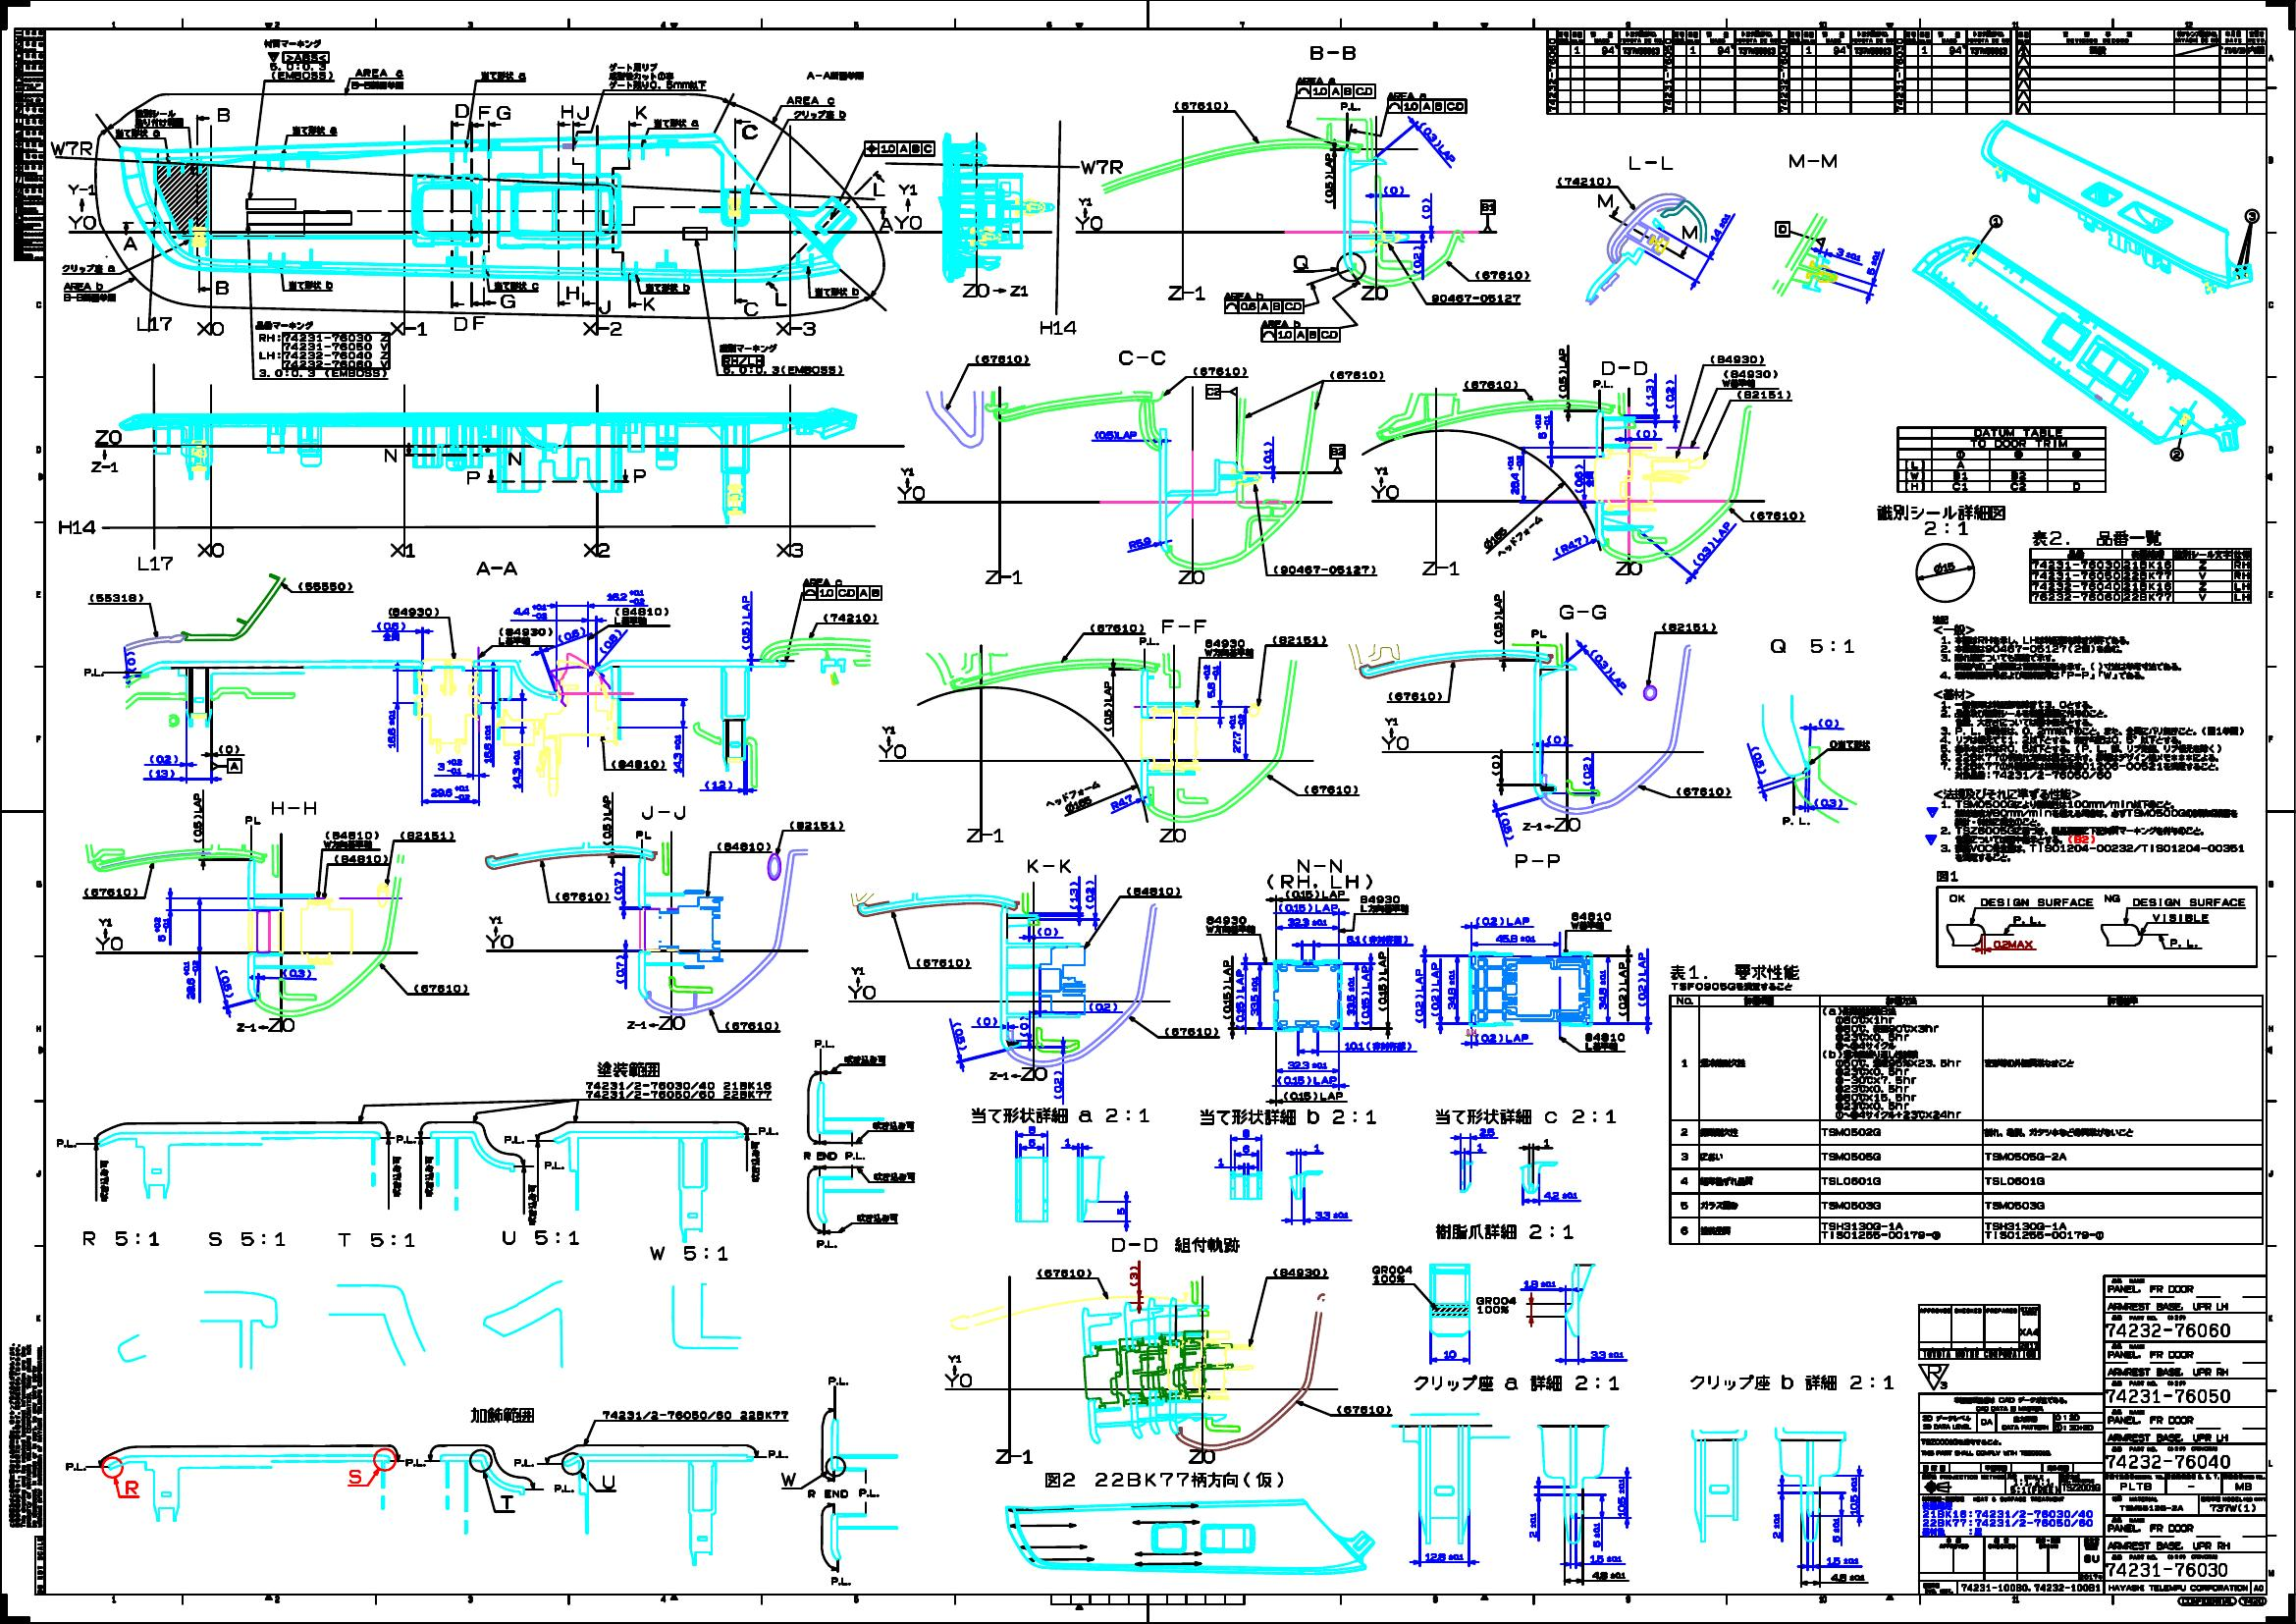anntotation_text: (1925, 613, 2245, 863), (255, 320, 390, 378), (585, 1060, 771, 1098), (1874, 501, 2006, 536), (718, 343, 841, 374), (1043, 1471, 1284, 1487), (1915, 541, 1976, 603), (1412, 1374, 1621, 1392), (1669, 963, 1799, 991), (1267, 858, 1372, 889), (1690, 1373, 1894, 1388), (1433, 1107, 1616, 1125), (970, 1107, 1151, 1123), (264, 39, 334, 79), (1198, 1109, 1375, 1125), (608, 62, 706, 88), (2032, 529, 2162, 547), (1112, 1236, 1240, 1253), (1435, 1223, 1574, 1239), (1296, 76, 1375, 98), (803, 576, 882, 599), (1261, 320, 1340, 341), (1224, 292, 1303, 313), (603, 1410, 789, 1418), (1388, 91, 1465, 112), (892, 183, 922, 228), (69, 183, 97, 230), (648, 1244, 729, 1260), (502, 1229, 580, 1244), (83, 1230, 160, 1246), (1769, 638, 1855, 652), (63, 281, 116, 302), (207, 1232, 286, 1246), (337, 1232, 415, 1246), (469, 1406, 534, 1422), (1722, 369, 1780, 387), (321, 830, 379, 847), (2133, 898, 2247, 907), (1980, 898, 2094, 907), (497, 626, 553, 643), (613, 606, 669, 624), (864, 141, 933, 155), (1075, 197, 1103, 230), (963, 283, 1029, 297), (1370, 466, 1398, 499), (1917, 1362, 1950, 1390), (943, 1353, 971, 1387), (95, 917, 123, 951), (878, 726, 906, 759), (1381, 717, 1409, 750), (847, 967, 875, 1000), (485, 916, 513, 949), (135, 107, 183, 127), (1274, 564, 1375, 573), (1203, 638, 1254, 656), (1205, 916, 1256, 933), (896, 468, 924, 499), (1360, 895, 1409, 912), (235, 1018, 295, 1032), (1521, 817, 1581, 831), (1583, 1032, 1625, 1051), (989, 1067, 1047, 1081), (627, 1016, 685, 1030), (1432, 294, 1521, 302), (806, 1487, 880, 1497), (1117, 350, 1165, 366), (1600, 360, 1648, 376), (1788, 153, 1836, 169), (1558, 605, 1606, 620), (271, 800, 316, 816), (1514, 852, 1560, 868), (1026, 858, 1072, 874), (775, 320, 815, 337), (1372, 1265, 1412, 1283), (1476, 1295, 1516, 1313), (1570, 910, 1611, 928), (1628, 155, 1672, 170), (1309, 46, 1356, 60), (1161, 619, 1207, 633), (476, 559, 516, 575), (49, 141, 93, 155), (641, 805, 685, 819), (1166, 285, 1205, 301), (984, 568, 1022, 584), (994, 1448, 1033, 1464), (1080, 160, 1123, 174), (390, 322, 427, 337), (1423, 561, 1460, 576), (789, 819, 843, 830), (1676, 786, 1730, 796), (137, 555, 172, 571), (1040, 320, 1075, 336), (1750, 510, 1802, 520), (1476, 1032, 1528, 1042), (803, 1151, 864, 1160), (58, 520, 95, 534), (966, 828, 1003, 842), (806, 70, 864, 79), (1474, 271, 1530, 279), (2152, 914, 2208, 923), (137, 316, 172, 330), (297, 582, 353, 591), (1660, 622, 1716, 631), (1173, 100, 1228, 109), (350, 81, 404, 90), (792, 109, 847, 118), (1193, 366, 1247, 374), (1463, 380, 1518, 388), (1736, 390, 1790, 399), (1709, 355, 1764, 364), (1337, 1404, 1391, 1413), (1036, 1267, 1091, 1276), (717, 842, 771, 851), (399, 831, 453, 840), (334, 854, 388, 863), (83, 886, 137, 895), (90, 592, 144, 601), (822, 613, 877, 622), (1089, 622, 1144, 631), (1272, 634, 1326, 643), (1303, 784, 1358, 793), (1388, 691, 1442, 700), (1126, 886, 1180, 895), (915, 958, 970, 967), (61, 264, 114, 272), (1330, 371, 1383, 380), (1274, 1267, 1326, 1276), (611, 759, 664, 768), (750, 1139, 761, 1183), (1165, 1026, 1217, 1035), (555, 891, 608, 900), (388, 606, 439, 615), (1360, 285, 1388, 301), (775, 541, 803, 557), (1188, 1448, 1216, 1464), (392, 1155, 402, 1197), (527, 1183, 538, 1225), (355, 69, 404, 77), (785, 95, 834, 104), (98, 1160, 109, 1200), (423, 1156, 434, 1197), (480, 70, 527, 79), (95, 429, 121, 445), (197, 541, 223, 557), (583, 541, 610, 557), (292, 125, 337, 134), (114, 128, 160, 137), (653, 118, 699, 127), (645, 281, 690, 290), (494, 281, 539, 290), (1614, 561, 1643, 575), (1158, 828, 1186, 842), (390, 541, 415, 557), (288, 279, 332, 288), (813, 286, 857, 295), (871, 1120, 915, 1128), (1556, 178, 1611, 185), (975, 355, 1029, 362), (413, 984, 467, 991), (724, 1021, 778, 1028), (197, 322, 223, 336), (1179, 569, 1205, 584), (873, 1171, 915, 1179), (856, 1213, 898, 1222), (843, 1055, 885, 1063), (90, 460, 119, 473), (1829, 740, 1869, 749), (1934, 870, 1959, 882), (2170, 937, 2198, 947), (2013, 914, 2041, 924), (741, 123, 757, 141), (499, 294, 515, 309), (1205, 383, 1221, 399), (1781, 816, 1809, 824), (1293, 255, 1309, 269), (214, 279, 228, 295), (495, 105, 511, 120), (743, 302, 759, 316), (597, 299, 611, 315), (453, 316, 469, 330), (780, 1471, 796, 1485), (499, 1494, 513, 1510), (1681, 225, 1697, 239), (1774, 221, 1788, 237), (1597, 193, 1613, 207), (2168, 448, 2184, 462), (56, 1137, 77, 1148), (395, 1134, 416, 1144), (404, 1459, 427, 1468), (1592, 380, 1614, 388), (815, 1239, 838, 1248), (123, 236, 137, 250), (216, 107, 230, 121), (878, 216, 892, 230), (566, 286, 580, 301), (632, 468, 646, 482), (508, 452, 522, 466), (466, 471, 480, 485), (383, 448, 397, 462), (348, 1469, 362, 1483), (125, 1480, 139, 1494), (1481, 199, 1493, 214), (560, 104, 573, 120), (473, 315, 485, 330), (1340, 102, 1361, 111), (1948, 893, 1966, 903), (827, 1376, 848, 1385), (513, 1459, 534, 1468), (553, 1483, 574, 1492), (65, 1462, 86, 1471), (83, 668, 104, 677), (1138, 636, 1159, 645), (757, 1127, 778, 1135), (813, 1039, 834, 1048), (455, 104, 469, 116), (478, 105, 490, 120), (576, 105, 588, 120), (873, 183, 885, 197), (775, 292, 787, 306), (643, 297, 655, 311), (610, 322, 622, 336), (581, 322, 596, 334), (1330, 445, 1344, 457), (603, 1475, 615, 1489), (2245, 209, 2259, 221), (1989, 214, 2003, 227), (228, 759, 241, 773), (831, 1577, 850, 1585), (545, 1160, 564, 1169), (504, 1135, 523, 1144), (636, 830, 652, 840), (2103, 893, 2120, 902), (244, 816, 262, 824), (1530, 629, 1548, 638), (636, 105, 646, 120), (768, 1450, 789, 1457)
dimension_text: (1483, 515, 1542, 557), (1045, 780, 1101, 812), (1692, 522, 1730, 566), (1590, 649, 1627, 689), (1419, 121, 1455, 162), (1344, 1040, 1411, 1051), (1556, 534, 1588, 555), (430, 784, 471, 800), (1360, 965, 1370, 1025), (376, 620, 406, 642), (606, 589, 645, 605), (1228, 714, 1244, 752), (1709, 213, 1730, 241), (1507, 455, 1521, 496), (513, 603, 548, 619), (183, 960, 197, 998), (1574, 464, 1593, 492), (1284, 889, 1346, 898), (1346, 935, 1407, 944), (191, 793, 202, 844), (1493, 592, 1504, 643), (1277, 1076, 1337, 1084), (1235, 968, 1244, 1028), (1377, 951, 1386, 1011), (599, 629, 622, 652), (1284, 1091, 1342, 1100), (1279, 903, 1337, 912), (1637, 951, 1646, 1007), (1414, 968, 1423, 1023), (1430, 961, 1439, 1016), (1618, 961, 1627, 1016), (1476, 916, 1530, 924), (1203, 664, 1217, 698), (1103, 680, 1112, 731), (1558, 348, 1567, 399), (557, 626, 585, 642), (603, 794, 611, 844), (511, 749, 522, 789), (1500, 810, 1514, 840), (153, 916, 169, 942), (437, 758, 464, 773), (1223, 960, 1230, 1018), (1108, 793, 1131, 810), (952, 1023, 966, 1051), (1751, 745, 1765, 773), (1534, 413, 1549, 438), (1093, 431, 1137, 439), (741, 596, 748, 649), (1325, 153, 1332, 204), (1346, 975, 1354, 1016), (1249, 975, 1258, 1016), (1599, 968, 1607, 1009), (1495, 933, 1535, 942), (1448, 968, 1456, 1009), (386, 708, 395, 749), (673, 733, 682, 773), (220, 970, 232, 998), (1866, 250, 1880, 274), (1288, 1060, 1326, 1069), (1425, 1552, 1463, 1561), (1616, 1478, 1625, 1517), (1288, 917, 1326, 926), (483, 724, 492, 763), (1850, 1476, 1859, 1513), (1836, 248, 1860, 260), (1084, 881, 1094, 909), (1992, 940, 2034, 947), (1590, 1350, 1623, 1359), (1128, 536, 1151, 548), (1590, 1554, 1621, 1562), (1827, 1555, 1859, 1564), (281, 968, 311, 977), (1813, 798, 1843, 807), (149, 754, 179, 763), (1070, 881, 1079, 909), (1089, 1002, 1117, 1011), (1054, 1070, 1063, 1098), (613, 872, 622, 900), (615, 954, 624, 982), (1542, 1192, 1578, 1199), (1830, 1573, 1866, 1580), (704, 780, 733, 789), (1583, 756, 1592, 784), (1665, 380, 1674, 408), (1263, 441, 1272, 469), (975, 1016, 998, 1026), (1314, 1211, 1347, 1218), (1523, 1280, 1556, 1287), (1592, 1571, 1625, 1578), (1412, 246, 1421, 272), (148, 768, 174, 777), (126, 650, 137, 671), (1592, 1522, 1600, 1547), (1773, 1513, 1781, 1538), (1421, 197, 1430, 220), (218, 743, 241, 752), (1646, 378, 1653, 406), (1017, 1016, 1026, 1037), (1130, 1265, 1138, 1287), (1528, 1512, 1535, 1538), (1832, 1517, 1839, 1543), (1546, 735, 1567, 743), (1818, 717, 1839, 726), (1635, 429, 1657, 438), (1038, 926, 1058, 935), (1491, 754, 1498, 775), (1383, 186, 1404, 193), (1479, 1127, 1495, 1135), (1442, 1350, 1456, 1359), (1028, 1137, 1036, 1146), (1028, 1125, 1036, 1134), (1476, 1142, 1483, 1151), (1542, 1137, 1549, 1146), (1242, 1128, 1249, 1137), (1242, 1144, 1249, 1153), (1314, 1142, 1319, 1151), (1065, 1137, 1070, 1146), (1116, 1207, 1124, 1213), (1217, 1158, 1223, 1165)
object: (121, 573, 871, 798), (118, 132, 859, 283), (119, 406, 857, 524), (1911, 236, 2247, 453), (924, 388, 1319, 571), (924, 650, 1298, 824), (1375, 390, 1751, 562), (1100, 116, 1465, 288), (949, 1292, 1325, 1452), (1349, 642, 1692, 816), (83, 842, 406, 1018), (483, 842, 808, 1016), (850, 891, 1158, 1067), (1980, 118, 2256, 295), (105, 1454, 527, 1536), (98, 1130, 515, 1211), (1005, 1497, 1375, 1577), (564, 1454, 754, 1566), (553, 1130, 743, 1243), (936, 132, 1056, 283), (1390, 1411, 1513, 1545), (1585, 192, 1708, 306), (1760, 694, 1859, 824), (829, 1418, 899, 1561), (815, 1081, 884, 1223), (1467, 951, 1593, 1026), (1535, 1424, 1611, 1545), (1773, 1425, 1846, 1541), (329, 1283, 425, 1367), (481, 1280, 564, 1369), (1690, 1427, 1748, 1543), (199, 1290, 279, 1369), (1773, 213, 1839, 297), (1272, 958, 1344, 1033), (671, 1283, 741, 1350), (1426, 1262, 1470, 1338), (1563, 1262, 1597, 1338), (1015, 1156, 1049, 1223), (1075, 1156, 1105, 1223), (1518, 1160, 1558, 1193), (1288, 1169, 1323, 1200), (2099, 923, 2141, 947), (1230, 1171, 1263, 1200), (1946, 923, 1985, 947), (116, 1334, 146, 1362), (1458, 1158, 1474, 1193)
title_block: (1669, 995, 2263, 1244), (1918, 1276, 2266, 1594), (2017, 28, 2266, 114), (1897, 427, 2106, 490), (2031, 548, 2250, 601), (1546, 28, 1664, 114), (1664, 28, 1780, 114), (1894, 28, 2010, 114), (1780, 28, 1894, 112), (14, 28, 44, 260), (1918, 1304, 2040, 1359)
